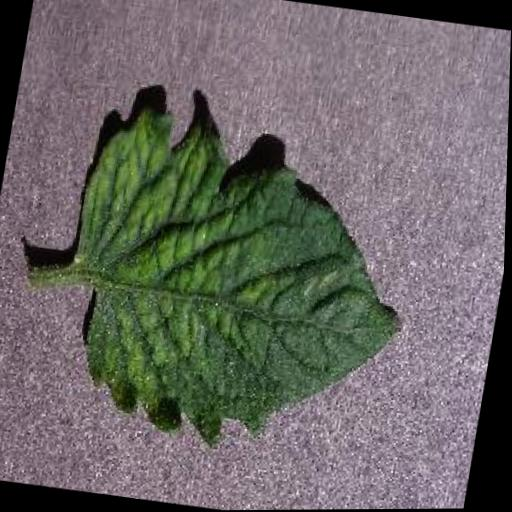Mosaic Virus: (46, 98, 435, 473)
